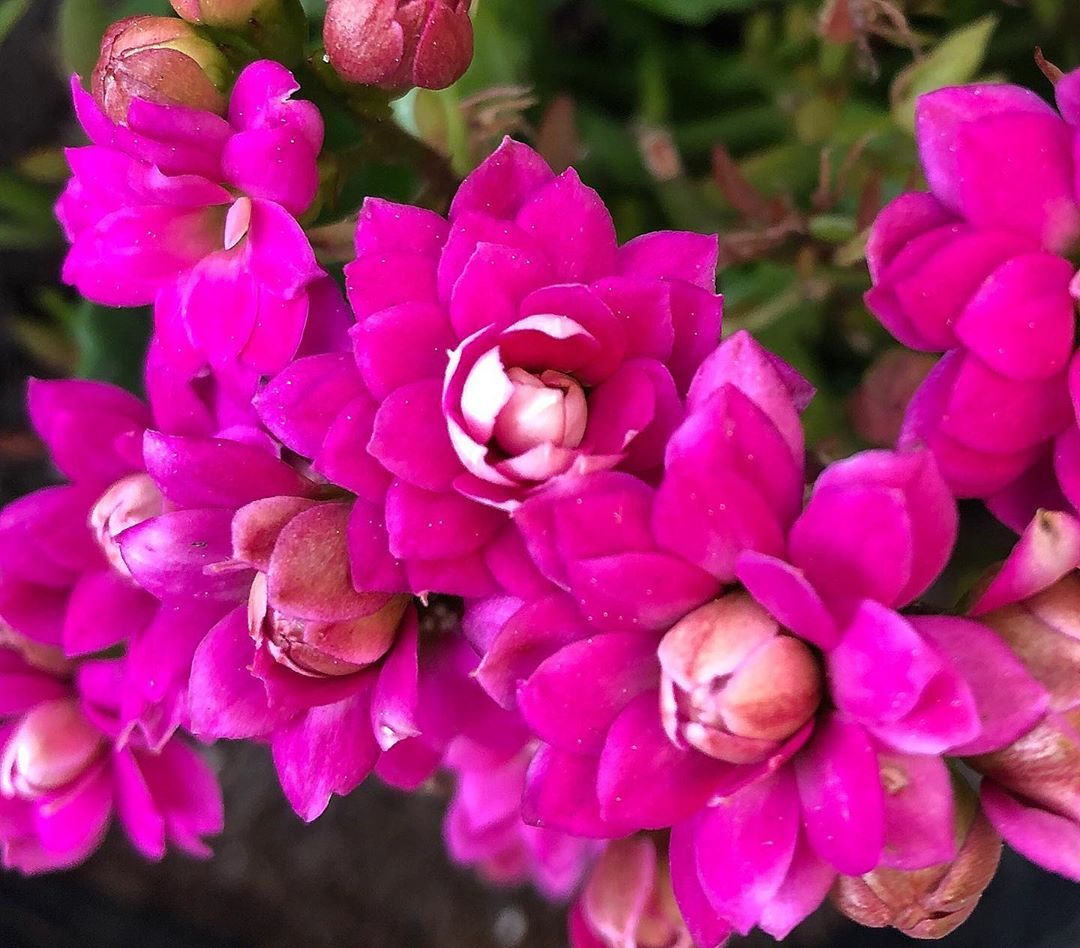pottedplant: (4, 1, 1080, 948)
